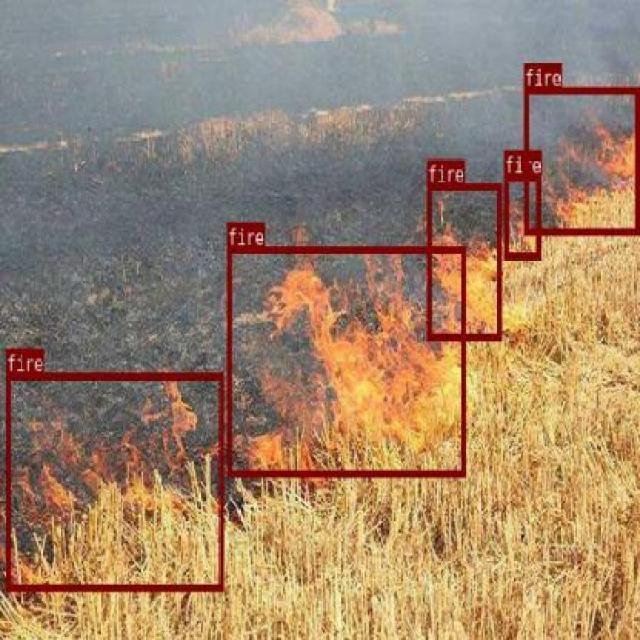Fire: (227, 244, 466, 476), (6, 370, 222, 588), (523, 87, 639, 233), (426, 180, 502, 338), (502, 174, 540, 258)
